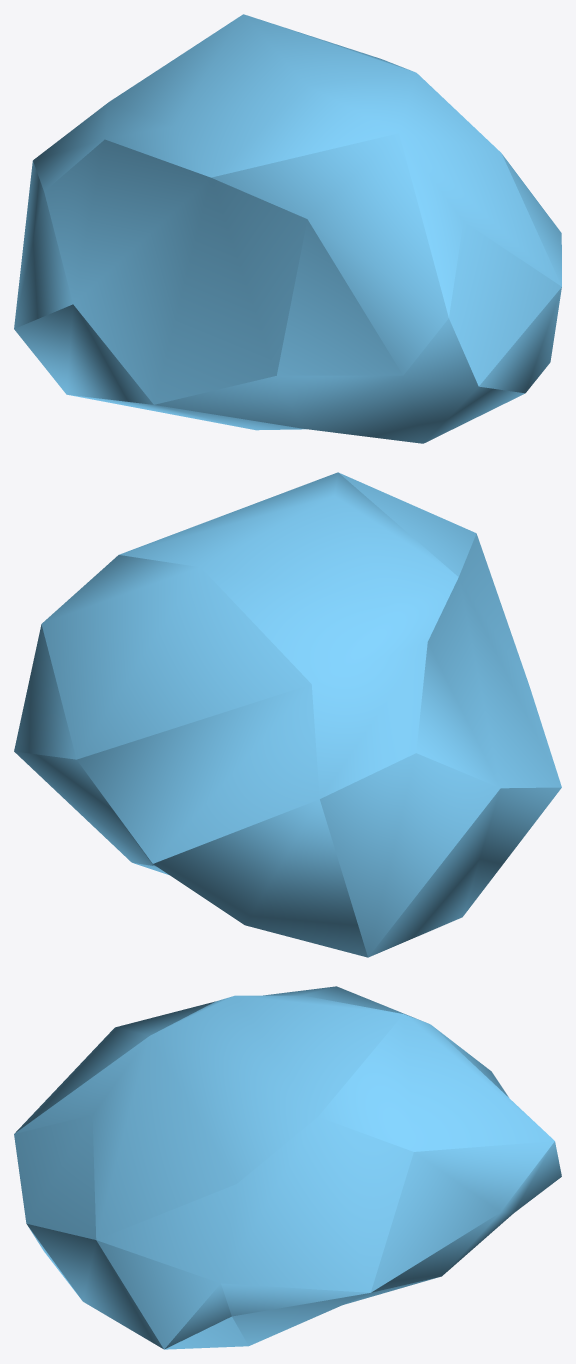
The model's file is PROP_Ice_Rock03.FBX.
3 renders of one model, top to bottom at view 1: azimuth 30°, elevation 25°; view 2: azimuth 150°, elevation 25°; view 3: azimuth 270°, elevation 25°, orthographic. The views are drawn at different scales.
Visible parts, largest first — view 1: PROP_Ice_Rock03; view 2: PROP_Ice_Rock03; view 3: PROP_Ice_Rock03.
Part boxes in pixels (x1,y1,x2,y2): PROP_Ice_Rock03: (14, 14, 561, 443); PROP_Ice_Rock03: (14, 472, 561, 957); PROP_Ice_Rock03: (14, 986, 561, 1349).
Size of the model in its own units: 262 by 184 by 316.
1 material, 1 textured.
